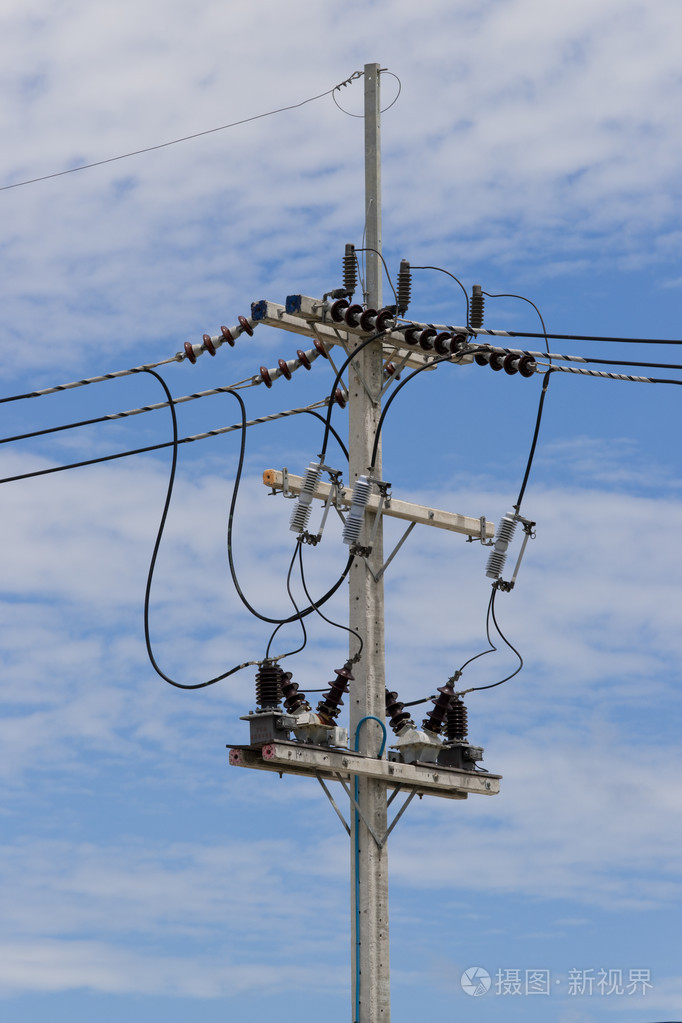insulator: (181, 314, 256, 363), (256, 341, 327, 388), (329, 299, 386, 335), (401, 328, 465, 359), (473, 348, 538, 376)
